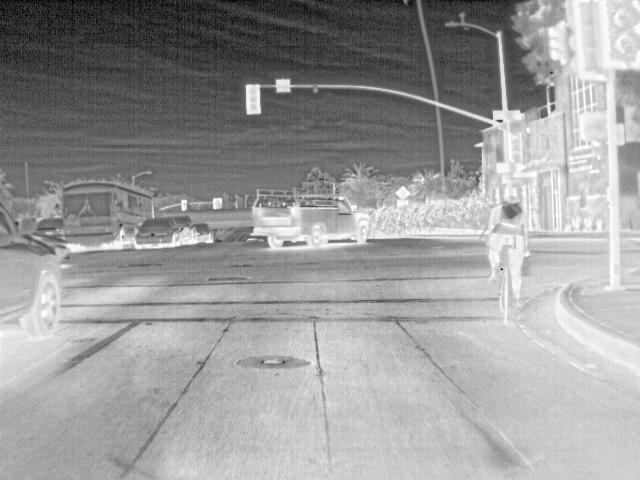car: (0, 206, 62, 340), (249, 193, 370, 249), (133, 218, 177, 248), (170, 213, 197, 245), (36, 218, 63, 238), (193, 223, 215, 244)
person: (487, 185, 526, 295)
